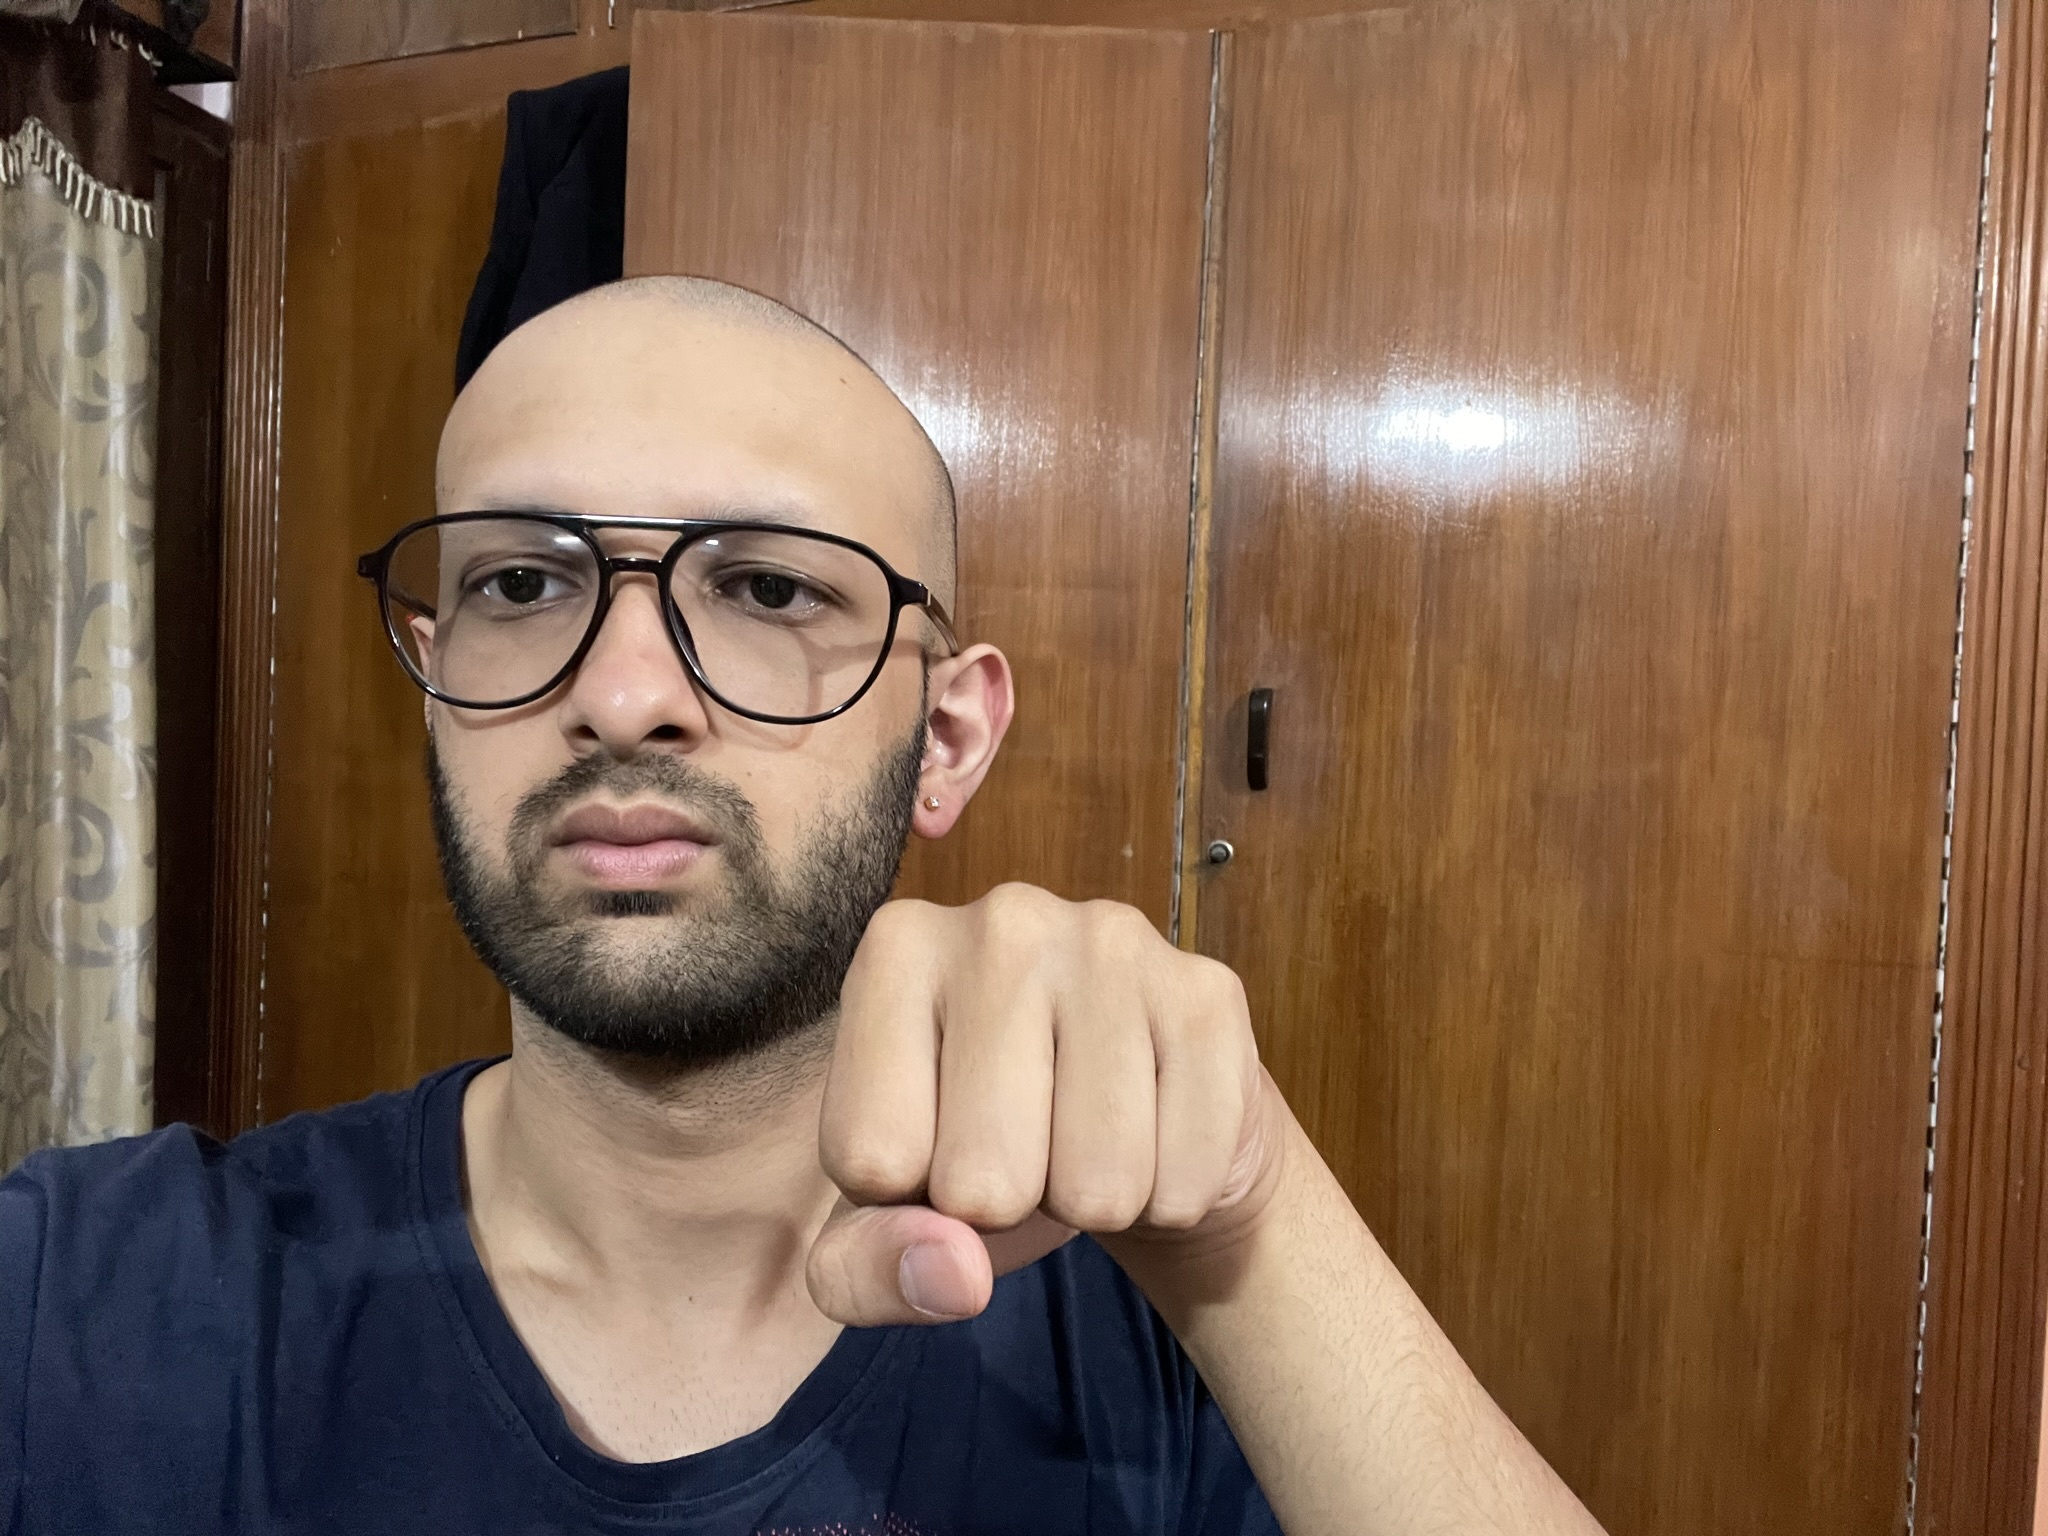Yes: (798, 866, 1285, 1352)
